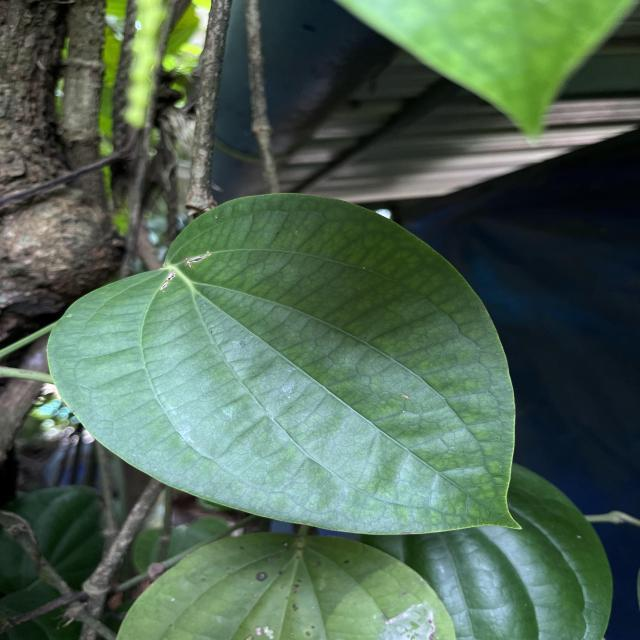Piper nigrum: (46, 190, 524, 536)
